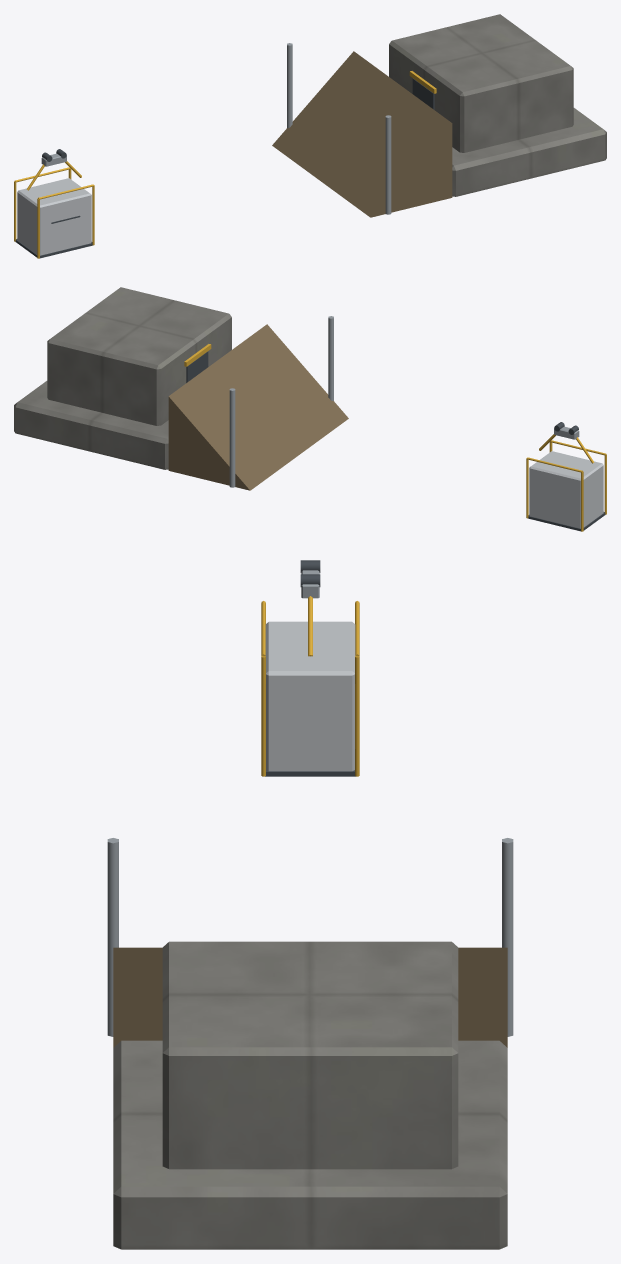
The model's file is egress.glb.
The picture shows the model from 3 angles, top to bottom: view 1: azimuth 30°, elevation 25°; view 2: azimuth 150°, elevation 25°; view 3: azimuth 270°, elevation 25°; orthographic projection. The views are drawn at different scales.
Visible parts, largest first — view 1: bunker, basket; view 2: bunker, basket; view 3: bunker, basket.
Part boxes in pixels (x1,y1,x2,y2): bunker: (272,14,606,217); basket: (14,149,94,258); bunker: (14,287,348,490); basket: (526,422,606,531); bunker: (107,838,513,1249); basket: (261,560,359,776).
Size of the model in its own units: 15 by 2.6 by 4.94.
Materials: 6 (1 with a texture image).
